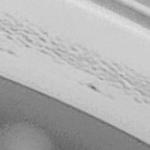colony: (0, 115, 62, 150)
